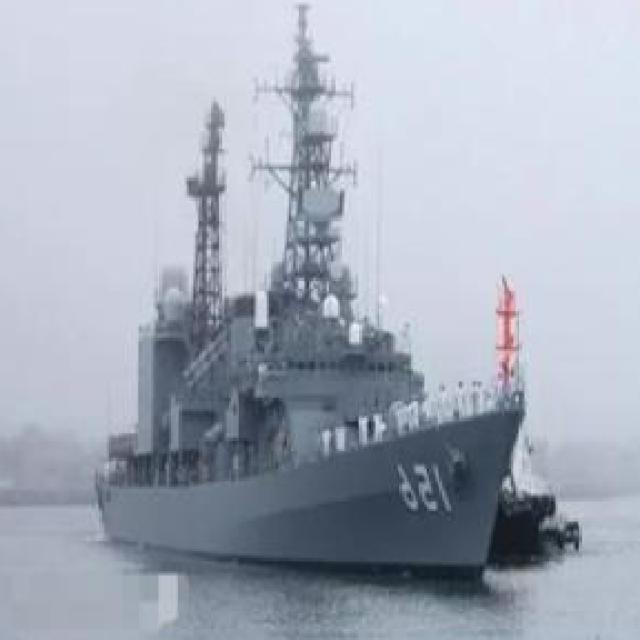navalvessels: (90, 15, 538, 577)
